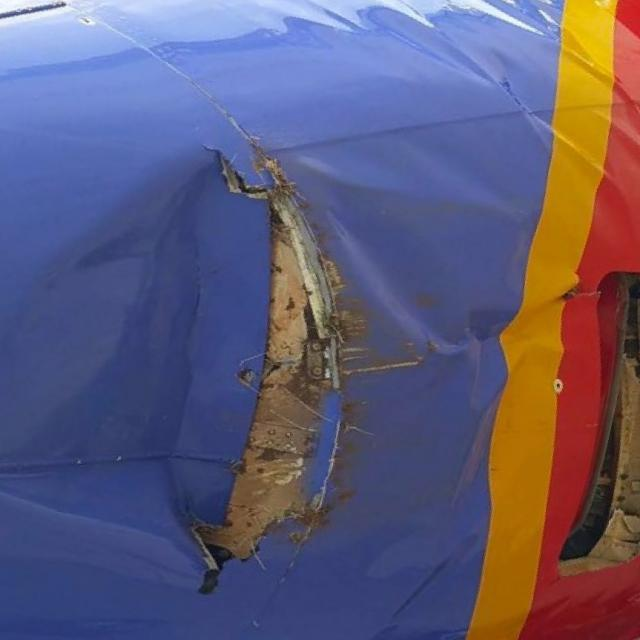crack: (205, 150, 273, 201)
dent: (2, 155, 245, 583), (327, 208, 469, 351)
